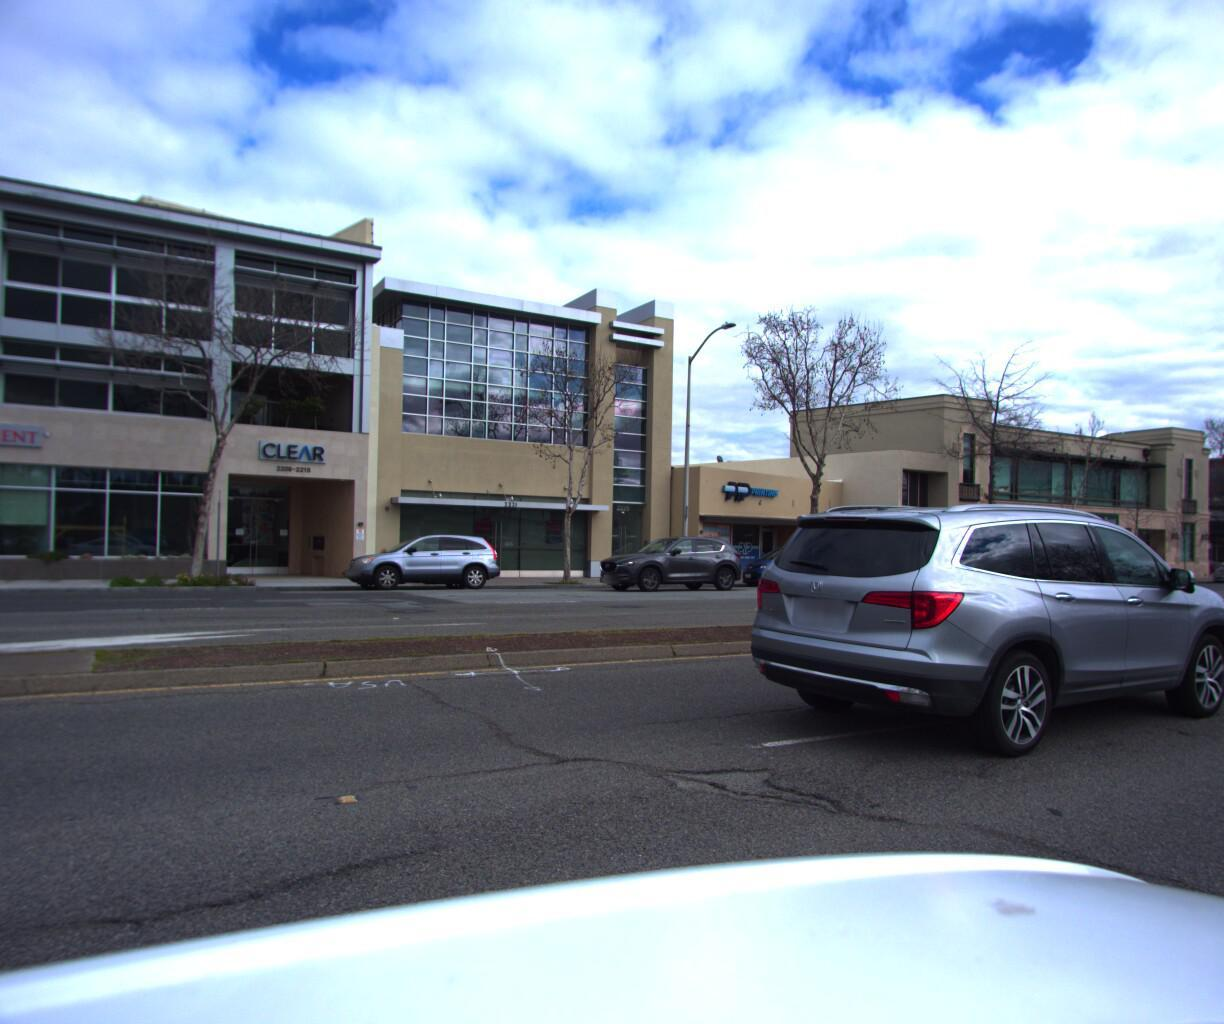car: (722, 481, 1224, 787), (332, 525, 513, 592), (587, 529, 748, 589), (726, 537, 853, 586), (1195, 549, 1224, 578)
